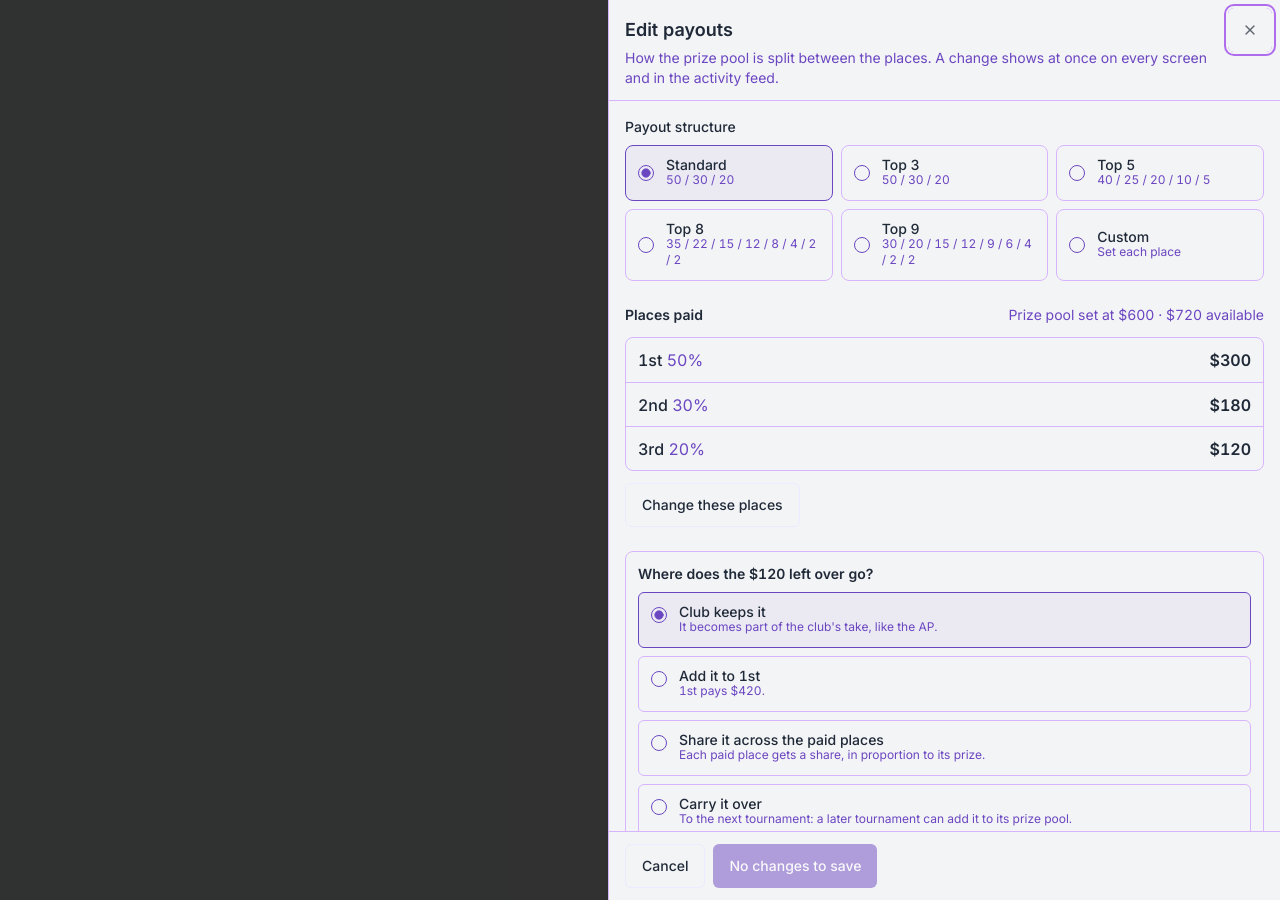
Test: PayoutEditorSheet › asks the same for a prize pool set by hand below the money available, on a standard structure
Check: the text with test id "payout-pool" reads "Prize pool set at $600 · $720 available", box [1008,306,1264,323]
Click the radio button named "Share it across the paid places" next to "Share it across the paid places" at (659, 743), box [651,735,667,751]
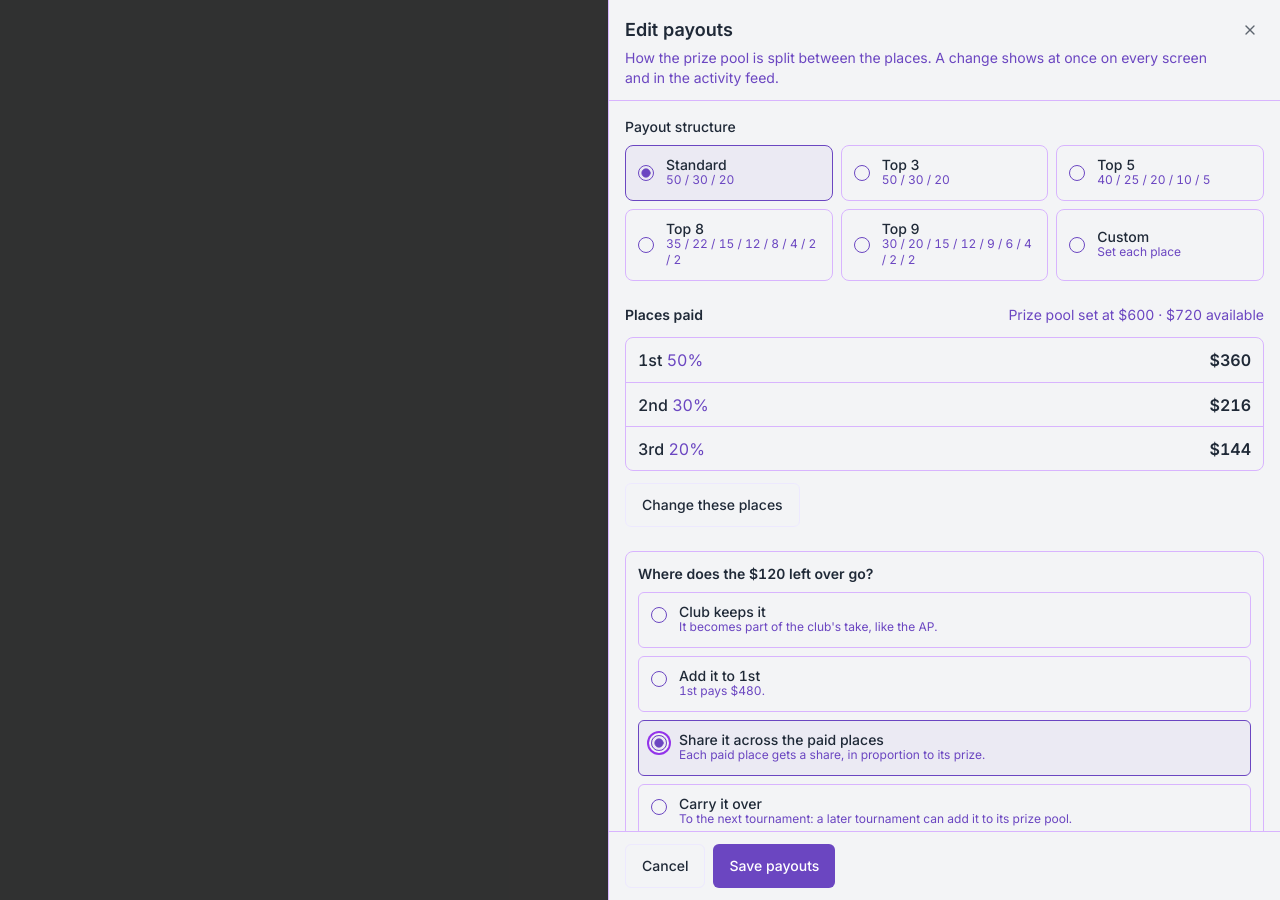
Click the button with test id "save-payouts" at (774, 866), box [714,844,835,888]
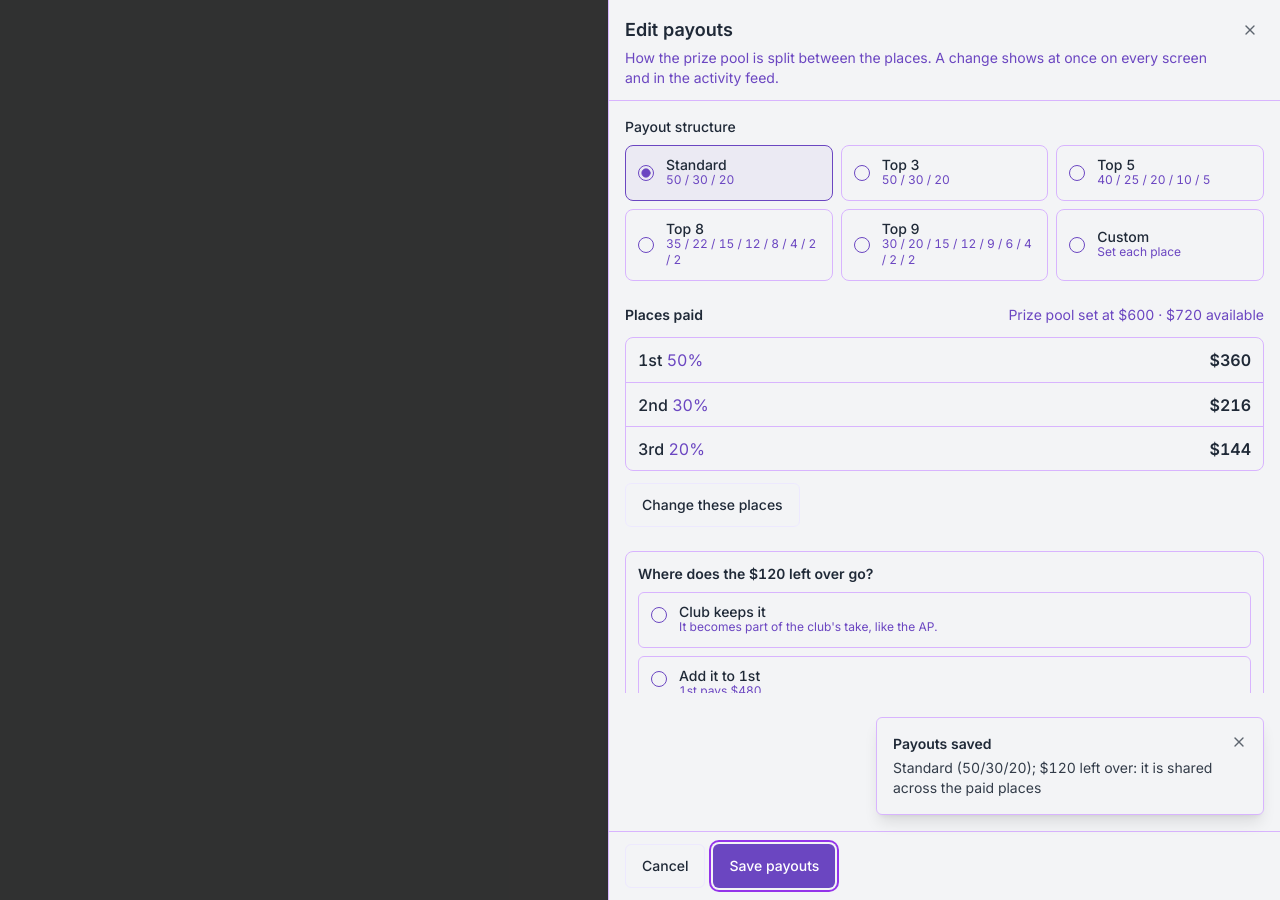
Check: the text "Standard (50/30/20); $120 left over: it is shared across the paid places" is shown, box [893,758,1215,798]
